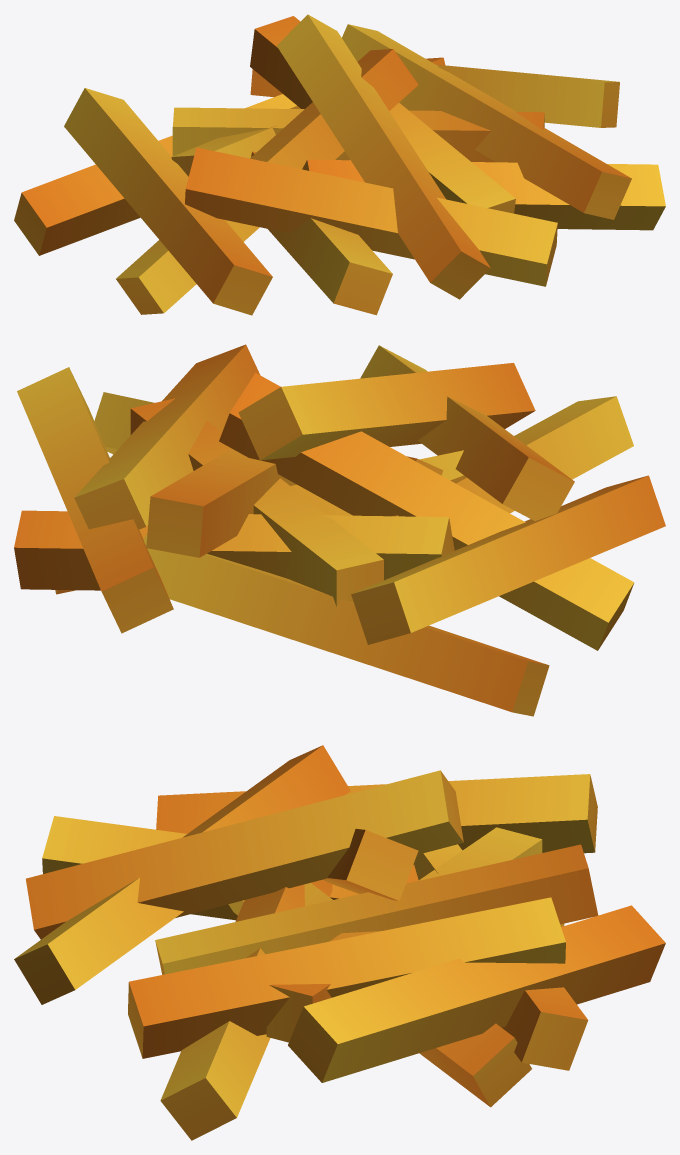
Rendered from DoubleCooked_FriesDoubleCooked.fbx.
3 views of the same model, one above another, from view 1: azimuth 30°, elevation 25°; view 2: azimuth 150°, elevation 25°; view 3: azimuth 270°, elevation 25° (orthographic). The views are drawn at different scales.
Visible parts, largest first — view 1: DoubleCooked_FriesDoubleCooked; view 2: DoubleCooked_FriesDoubleCooked; view 3: DoubleCooked_FriesDoubleCooked.
Part boxes in pixels (<box>): DoubleCooked_FriesDoubleCooked: <box>14,14,665,315</box>; DoubleCooked_FriesDoubleCooked: <box>14,344,665,716</box>; DoubleCooked_FriesDoubleCooked: <box>14,745,665,1140</box>.
Bounding box in the file's own units: 21.66 × 8.39 × 20.07.
1 material, 1 textured.
